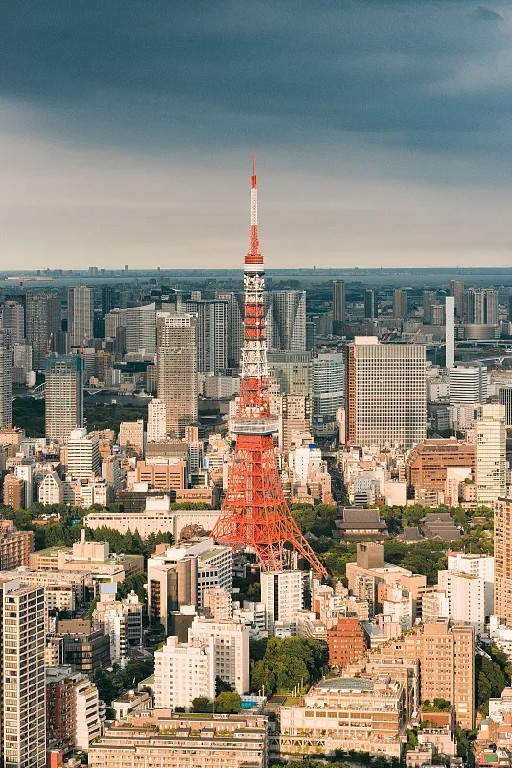Tokyo: (202, 147, 331, 580)
